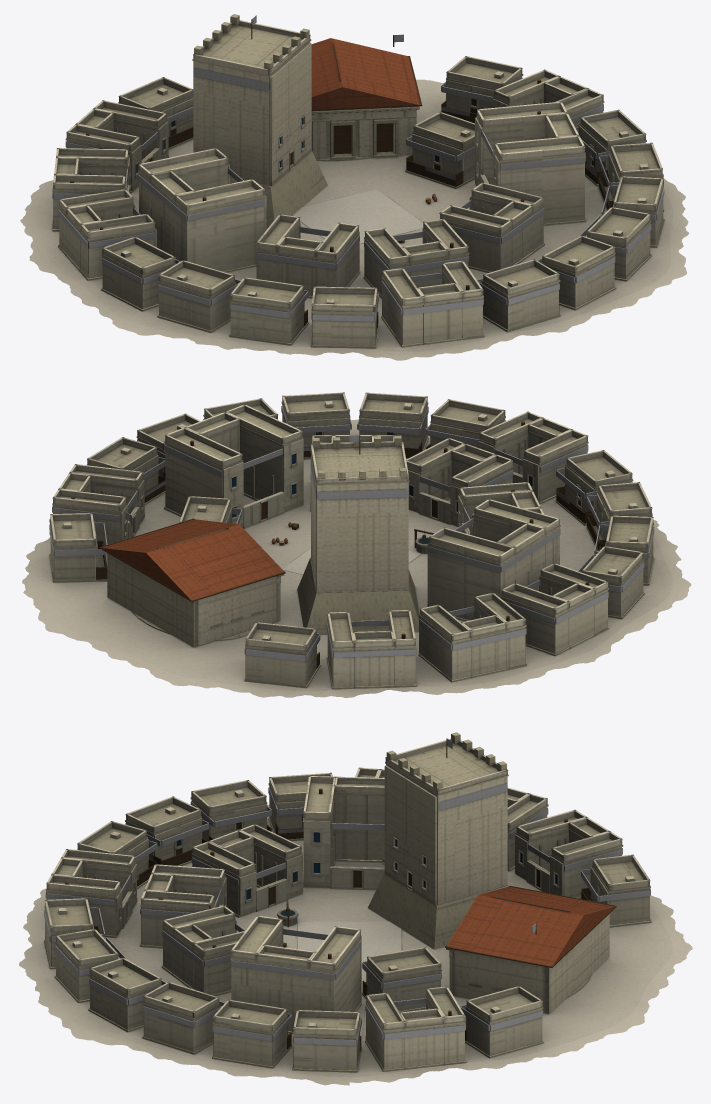
File: classical-town-big-b-israelite-f2d93421.glb
3 views of the same model, one above another, from view 1: azimuth 30°, elevation 25°; view 2: azimuth 150°, elevation 25°; view 3: azimuth 270°, elevation 25° (orthographic).
Parts seen in each view (by area): view 1: LOD0; view 2: LOD0; view 3: LOD0.
Part boxes in pixels (x1,y1,x2,y2): LOD0: (20, 14, 689, 360); LOD0: (22, 392, 691, 697); LOD0: (19, 732, 692, 1085).
Size of what is drawn, in the model's own units: 7.94 by 2.3 by 7.92.
3 materials, 3 textured.
